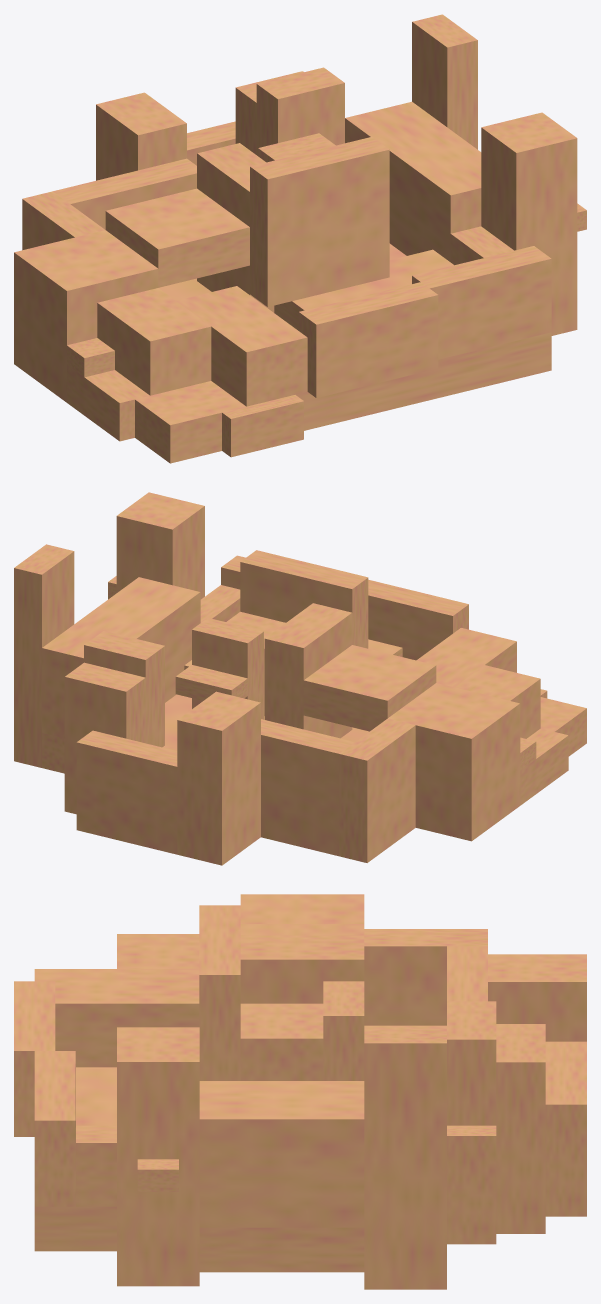
Rendered from SM_TrailerChallengeIsland.fbx.
3 views of the same model, one above another, from view 1: azimuth 30°, elevation 25°; view 2: azimuth 150°, elevation 25°; view 3: azimuth 270°, elevation 25° (orthographic). The views are drawn at different scales.
Visible parts, largest first — view 1: IslandPiece; view 2: IslandPiece; view 3: IslandPiece.
Part boxes in pixels (bbox=[...]): IslandPiece: bbox=[14, 14, 586, 463]; IslandPiece: bbox=[14, 492, 586, 865]; IslandPiece: bbox=[14, 894, 586, 1289].
Bounding box in the file's own units: 15600 × 6600 × 13900.
